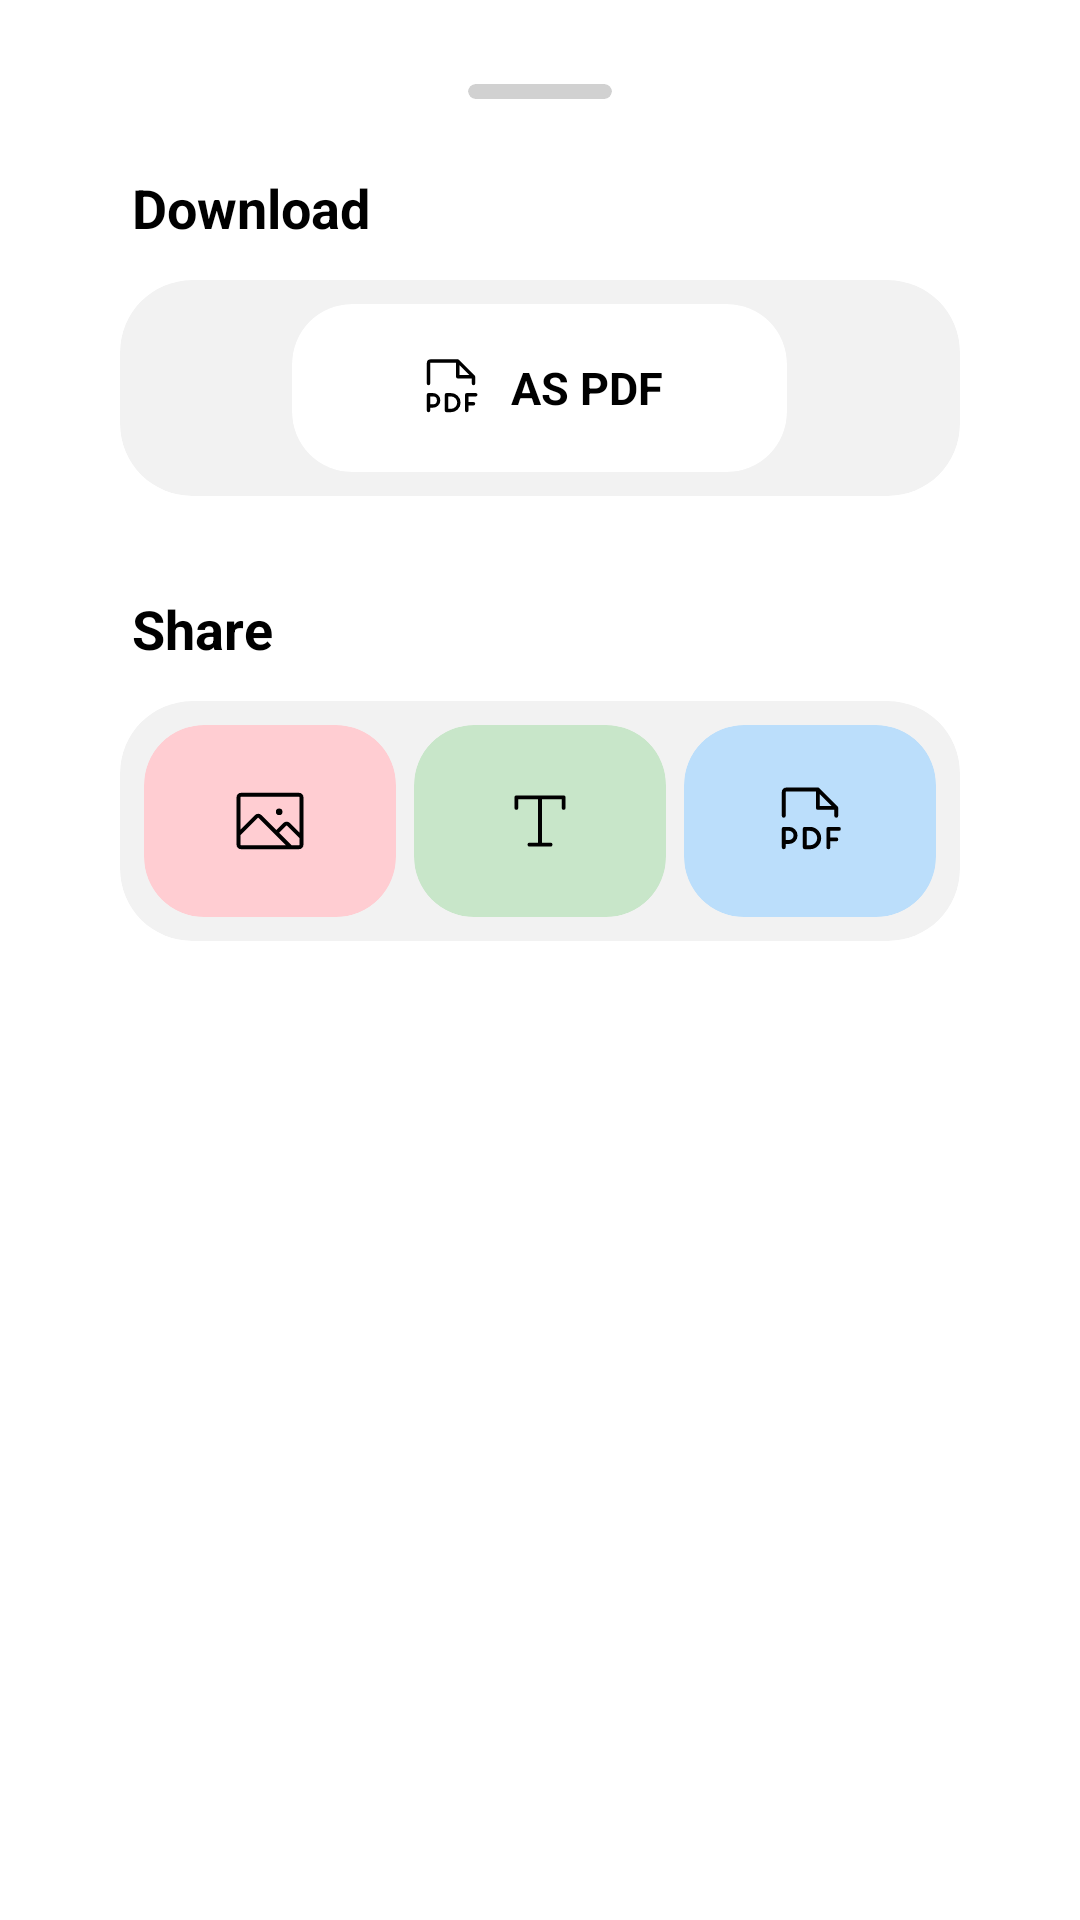

Where icons sit on this 1080 × 1920 app screen, as (x1, y1, x2, y2):
text: (514, 795, 566, 847)
